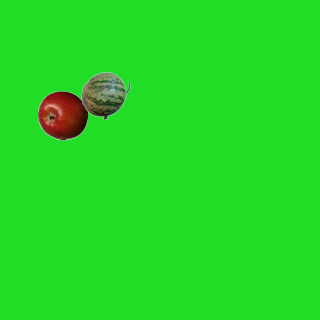Apple Braeburn: (37, 90, 87, 140)
Watermelon: (80, 70, 130, 120)
